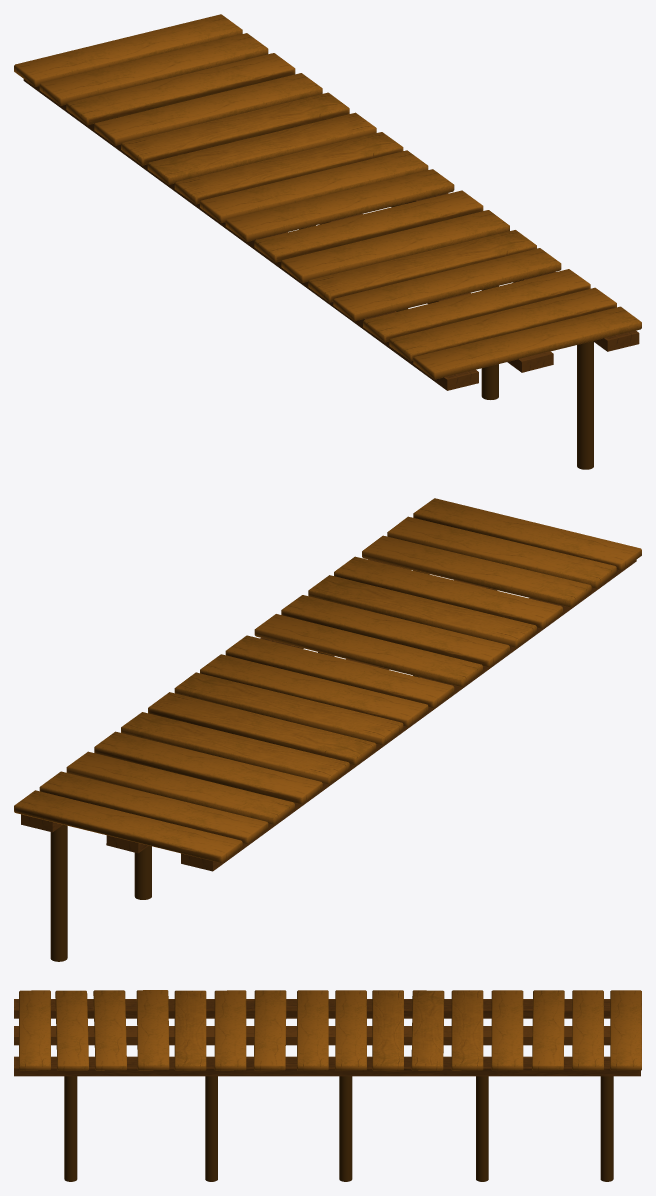
File: jetty.glb
The picture shows the model from 3 angles, top to bottom: view 1: azimuth 30°, elevation 25°; view 2: azimuth 150°, elevation 25°; view 3: azimuth 270°, elevation 25°; orthographic projection. The views are drawn at different scales.
Parts seen in each view (by area): view 1: PlankLow011, PlankLow010, PlankLow.003, PlankLow001, PlankLow007, PlankLow003, PlankLow002, PlankLow008, PlankLow.001, PlankLow004, PlankLow.004, PlankLow (+8 smaller); view 2: PlankLow, PlankLow008, PlankLow.004, PlankLow002, PlankLow.002, PlankLow006, PlankLow004, PlankLow003, PlankLow001, PlankLow007, PlankLow.001, PlankLow.003 (+7 smaller); view 3: Support BeamLow, PlankLow002, PlankLow003, PlankLow006, PlankLow007, PlankLow009, PlankLow.004, PlankLow010, PlankLow001, PlankLow004, PlankLow008, Support BeamLow002 (+12 smaller).
Part boxes in pixels (x1,y1,x2,y2): PlankLow011: (413, 306, 641, 379); PlankLow010: (333, 248, 561, 321); PlankLow.003: (225, 169, 454, 241); PlankLow001: (66, 53, 295, 125); PlankLow007: (281, 210, 509, 282); PlankLow003: (121, 92, 349, 165); PlankLow002: (94, 73, 322, 145); PlankLow008: (254, 190, 483, 262); PlankLow.001: (39, 33, 268, 105); PlankLow004: (147, 112, 376, 184); PlankLow.004: (363, 269, 590, 342); PlankLow: (14, 14, 242, 86); PlankLow: (14, 790, 242, 862); PlankLow008: (254, 614, 482, 687); PlankLow.004: (362, 535, 591, 607); PlankLow002: (94, 731, 322, 804); PlankLow.002: (174, 672, 403, 745); PlankLow006: (308, 575, 536, 647); PlankLow004: (148, 692, 376, 765); PlankLow003: (121, 712, 349, 784); PlankLow001: (66, 751, 294, 824); PlankLow007: (281, 595, 509, 667); PlankLow.001: (39, 771, 268, 844); PlankLow.003: (225, 635, 454, 708); Support BeamLow: (14, 1056, 640, 1076); PlankLow002: (491, 990, 523, 1070); PlankLow003: (451, 990, 483, 1070); PlankLow006: (174, 990, 206, 1070); PlankLow007: (214, 990, 246, 1070); PlankLow009: (55, 990, 88, 1070); PlankLow.004: (93, 990, 126, 1070); PlankLow010: (136, 990, 169, 1070); PlankLow001: (532, 990, 564, 1070); PlankLow004: (411, 990, 444, 1070); PlankLow008: (254, 990, 286, 1070); Support BeamLow002: (14, 999, 610, 1018).
Bounding box in the file's own units: 6.72 × 5.05 × 23.53.
1 material, 1 textured.
